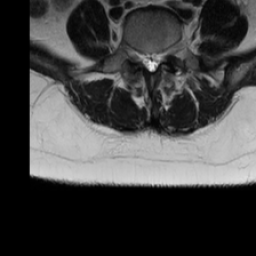CCS_normal: (147, 45, 154, 78)
LFS_normal: (161, 40, 169, 69)
LLS_normal: (154, 45, 161, 73)
RFS_normal: (132, 41, 140, 70)
RLS_normal: (140, 45, 147, 71)
